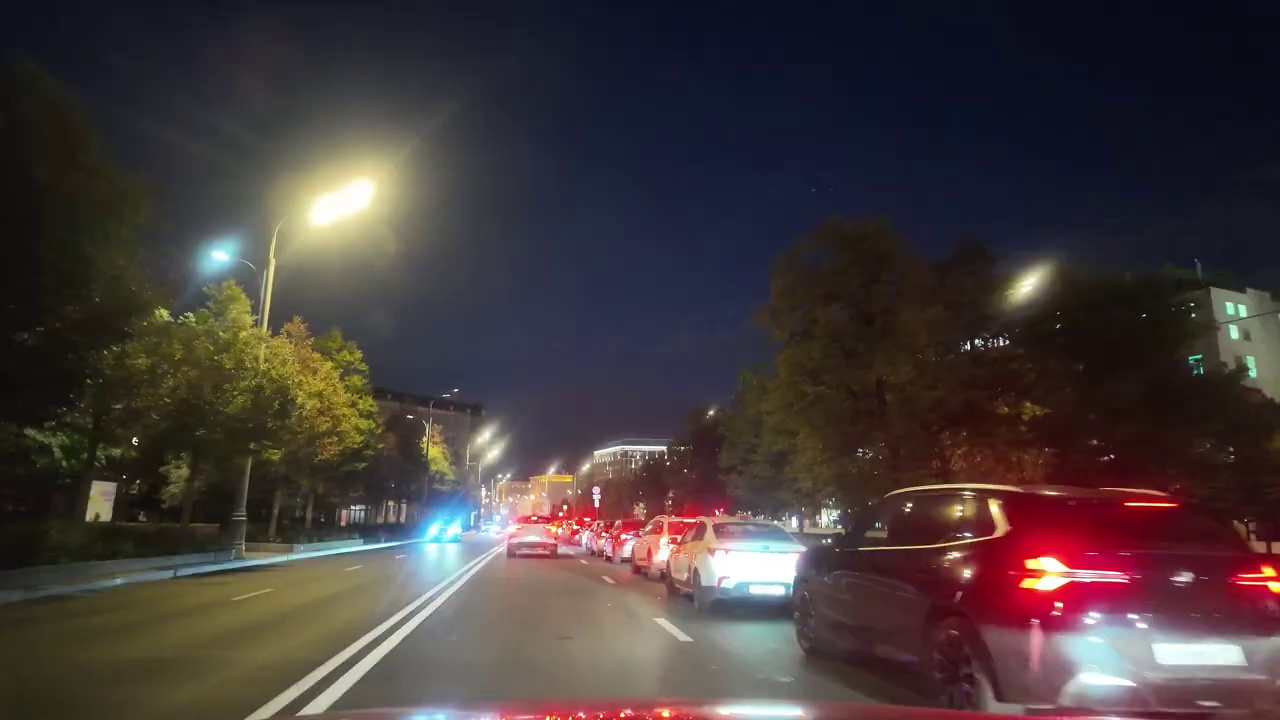acesa: (302, 173, 382, 238), (1002, 260, 1058, 315), (415, 425, 449, 470)
